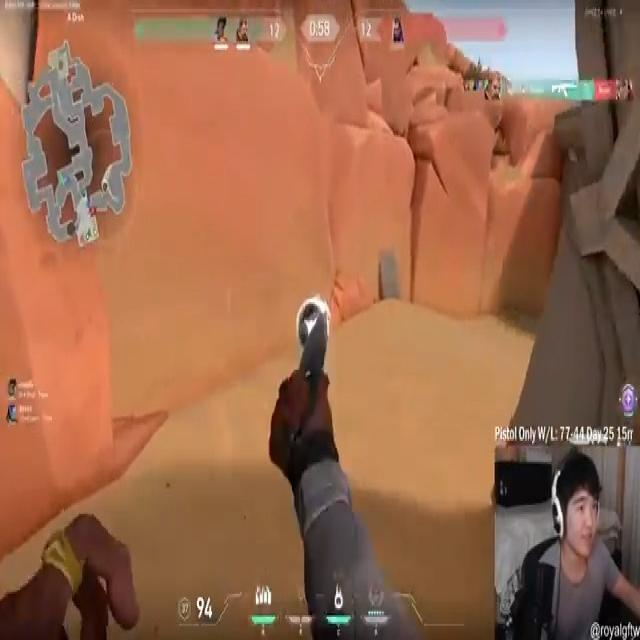orb: (298, 298, 322, 349)
